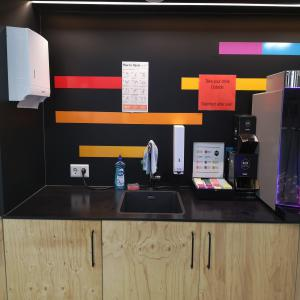Plastic-bottle: (115, 155, 127, 192)
